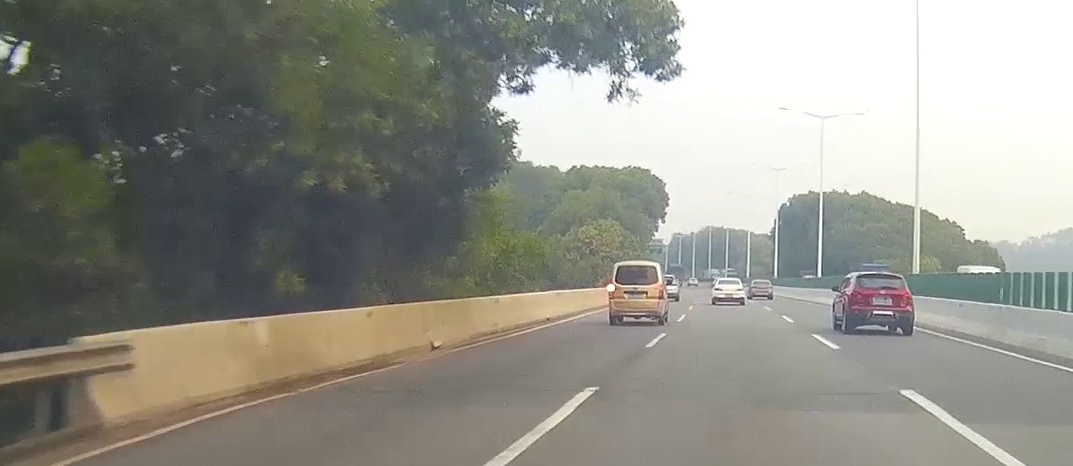L_light: (609, 283, 614, 299), (851, 291, 860, 297), (714, 288, 722, 291)
R_light: (658, 285, 663, 300), (903, 292, 911, 299), (736, 288, 743, 291)
T_light: (877, 275, 889, 278), (630, 266, 640, 268), (727, 280, 732, 281)
day-left: (609, 261, 664, 325)
day-no: (848, 272, 914, 335), (712, 279, 744, 305)
